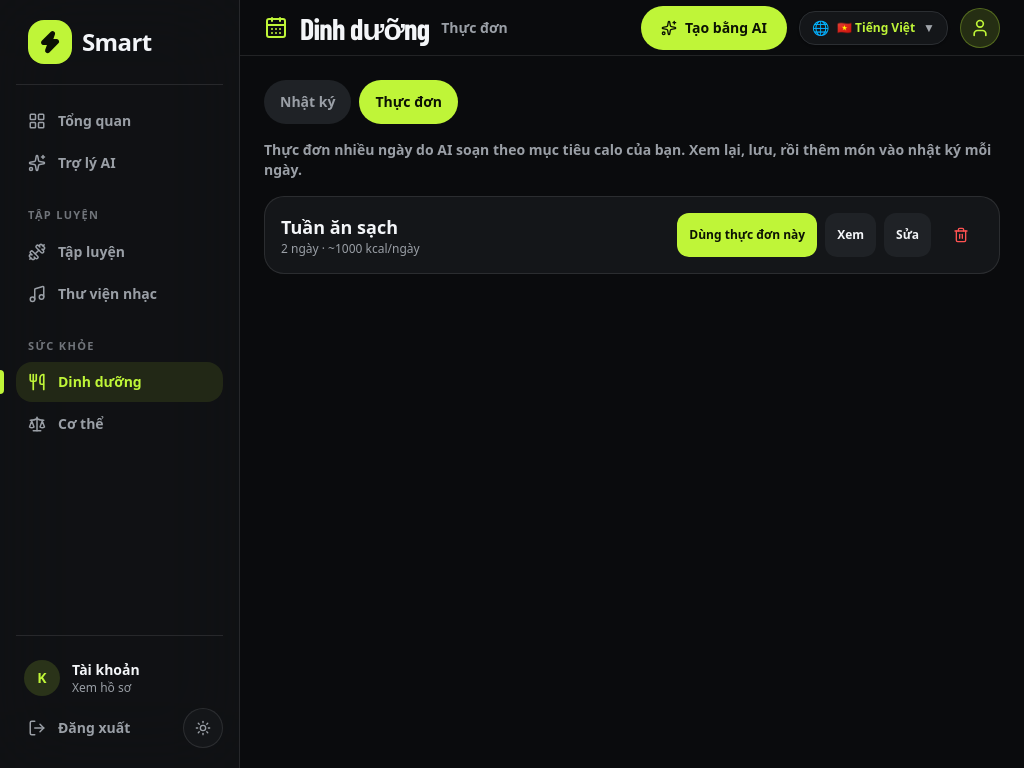
Test: Meal plans: using and deleting › "Dùng thực đơn này" sets activeMealPlanId and refreshes the profile
Click the button "Dùng thực đơn này": (747, 235) [677,213,817,257]
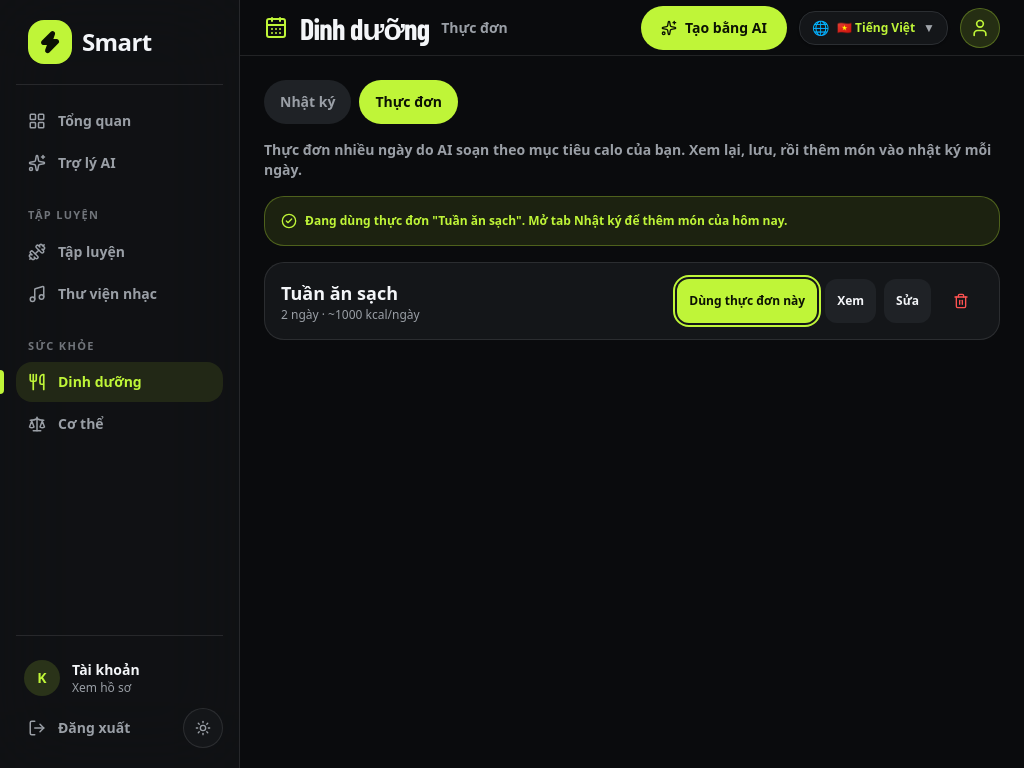
Expected: the message shows "Đang dùng thực đơn \"Tuần ăn sạch\"", [305,212,788,229]
